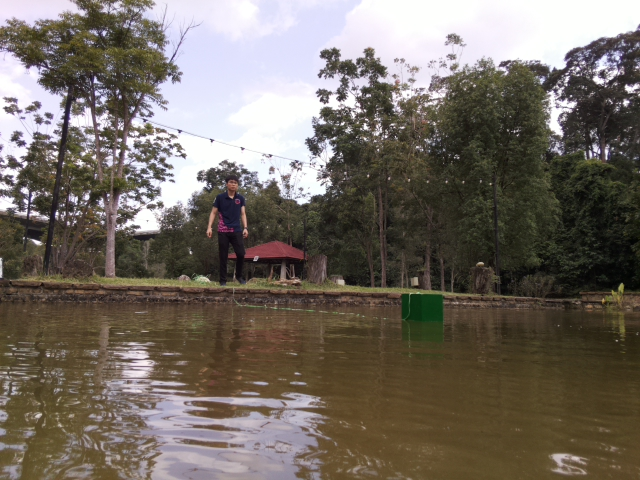obstacle: (400, 292, 445, 322)
